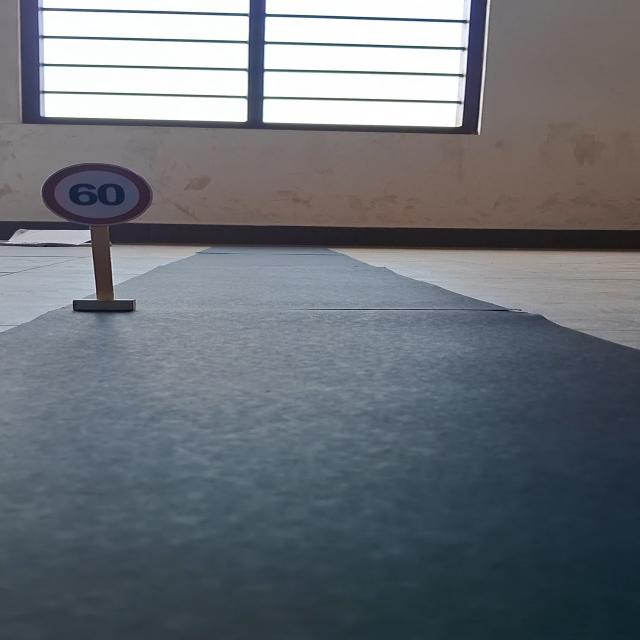Speed60: (38, 158, 155, 231)
